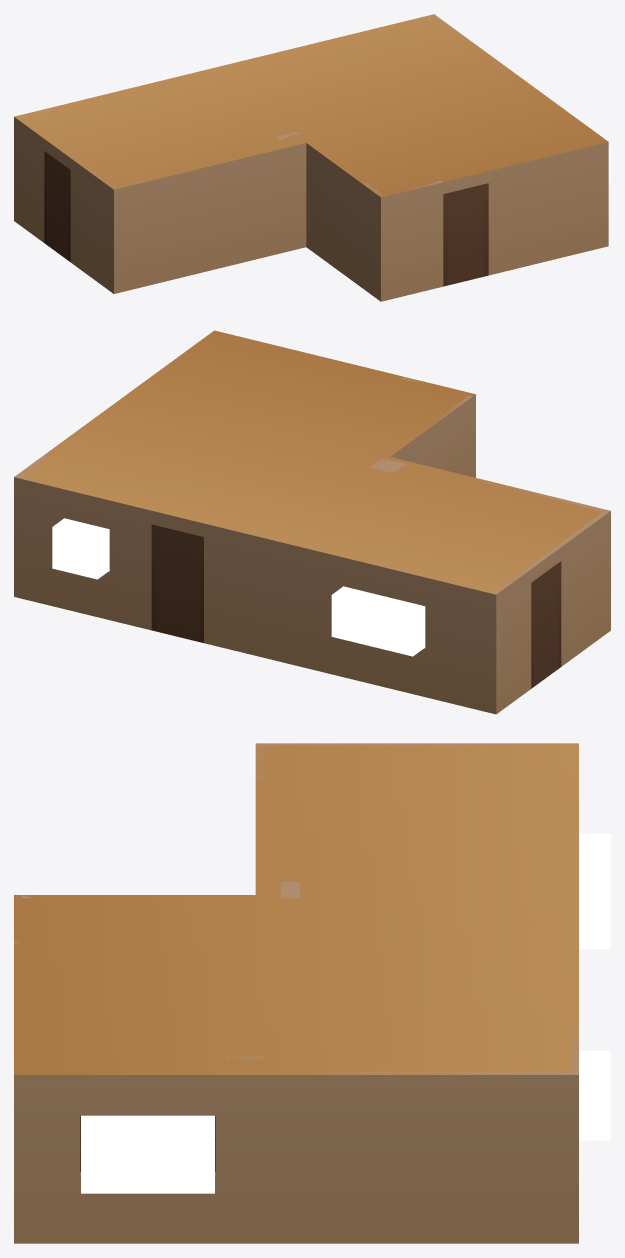
Rendered from level_test.glb.
3 renders of one model, top to bottom at view 1: azimuth 30°, elevation 25°; view 2: azimuth 150°, elevation 25°; view 3: azimuth 270°, elevation 25°, orthographic. The views are drawn at different scales.
Visible parts, largest first — view 1: chao_collider_madeira.001, walls_collider, porta_collider.005, porta_collider.004, porta_collider, porta_collider.001; view 2: chao_collider_madeira.001, walls_collider, window_collider.002, porta_collider.003, window_collider.001, porta_collider.004, porta_collider.002, porta_collider.001; view 3: chao_collider_madeira.001, walls_collider, window_collider, window_collider.002, window_collider.001.
Boxes of the visible parts, bbox=[...] form: chao_collider_madeira.001: bbox=[14, 14, 608, 197]; walls_collider: bbox=[14, 14, 608, 301]; porta_collider.005: bbox=[447, 188, 484, 285]; porta_collider.004: bbox=[47, 157, 68, 260]; porta_collider: bbox=[443, 183, 488, 286]; porta_collider.001: bbox=[44, 151, 70, 261]; chao_collider_madeira.001: bbox=[22, 330, 609, 594]; walls_collider: bbox=[14, 377, 610, 714]; window_collider.002: bbox=[331, 586, 425, 656]; porta_collider.003: bbox=[156, 530, 199, 641]; window_collider.001: bbox=[52, 518, 109, 579]; porta_collider.004: bbox=[534, 568, 558, 686]; porta_collider.002: bbox=[151, 524, 203, 642]; porta_collider.001: bbox=[531, 561, 561, 688]; chao_collider_madeira.001: bbox=[14, 743, 578, 1074]; walls_collider: bbox=[14, 743, 578, 1243]; window_collider: bbox=[80, 1115, 215, 1193]; window_collider.002: bbox=[579, 834, 610, 948]; window_collider.001: bbox=[579, 1051, 610, 1140].
Size of the model in its own units: 22.52 by 5.12 by 16.24.
5 materials, 3 textured.
